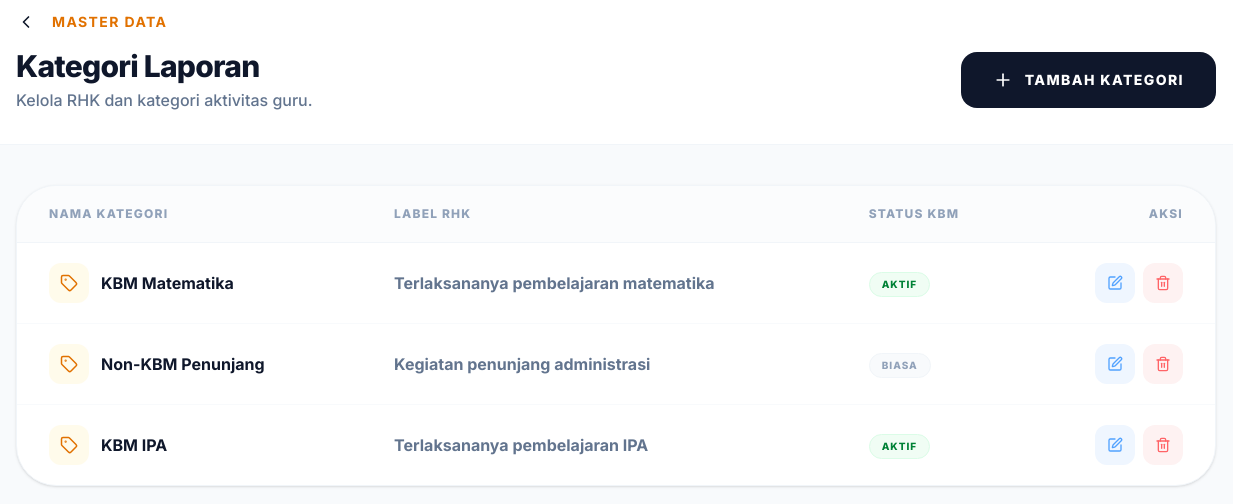
Scenario: AdminCategoriesClient › should show loading state during delete
This screenshot has width=1233, height=504.
Click the button titled "Hapus kategori" in the row of "KBM Matematika".
click(1163, 283)  # box left=1143, top=263, right=1183, bottom=303
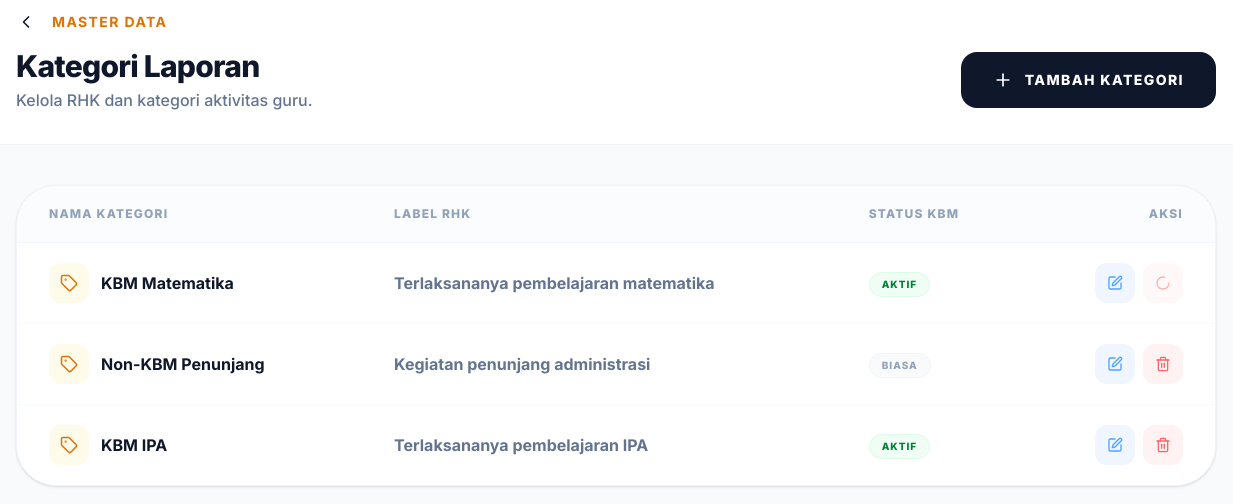
Expected: the button titled "Hapus kategori" in the row of "KBM Matematika" is disabled, left=1143, top=263, right=1183, bottom=303
